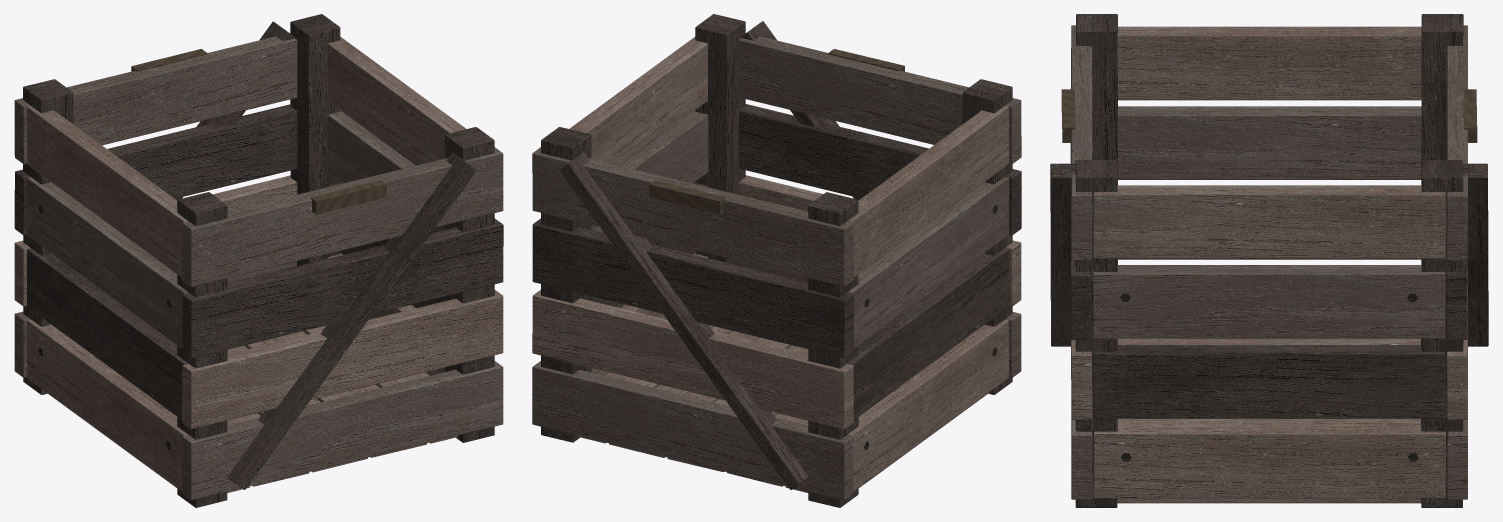
The model's file is Crate.gltf.
3 renders of one model, left to right at view 1: azimuth 30°, elevation 25°; view 2: azimuth 150°, elevation 25°; view 3: azimuth 270°, elevation 25°, orthographic. The views are drawn at different scales.
Parts seen in each view (by area): view 1: Crate; view 2: Crate; view 3: Crate.
Boxes of the visible parts, <box> form: Crate: <box>14,14,503,507</box>; Crate: <box>532,14,1021,507</box>; Crate: <box>1050,14,1488,507</box>.
Bounding box in the file's own units: 0.62 × 0.56 × 0.6721.
Materials: 5 (5 with a texture image).
